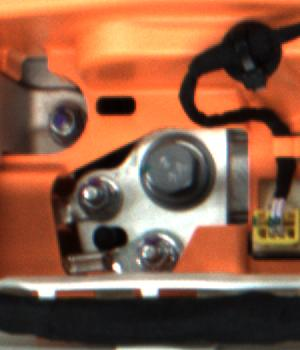nut_b: (138, 126, 215, 210)
